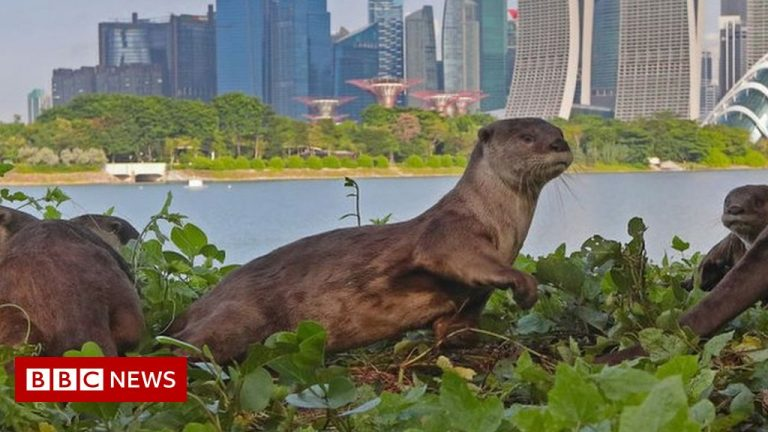otter: (160, 113, 587, 366)
